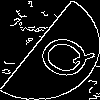Q: (24, 25, 98, 85)
